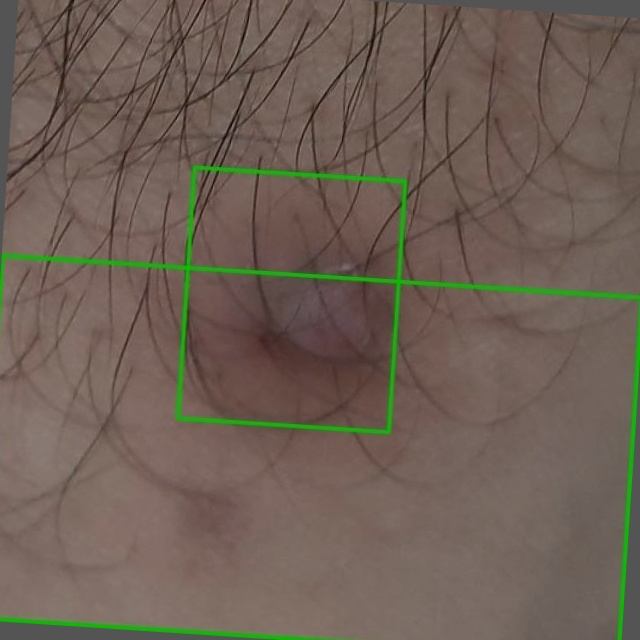Eczema: (0, 255, 639, 639), (177, 167, 405, 432)
